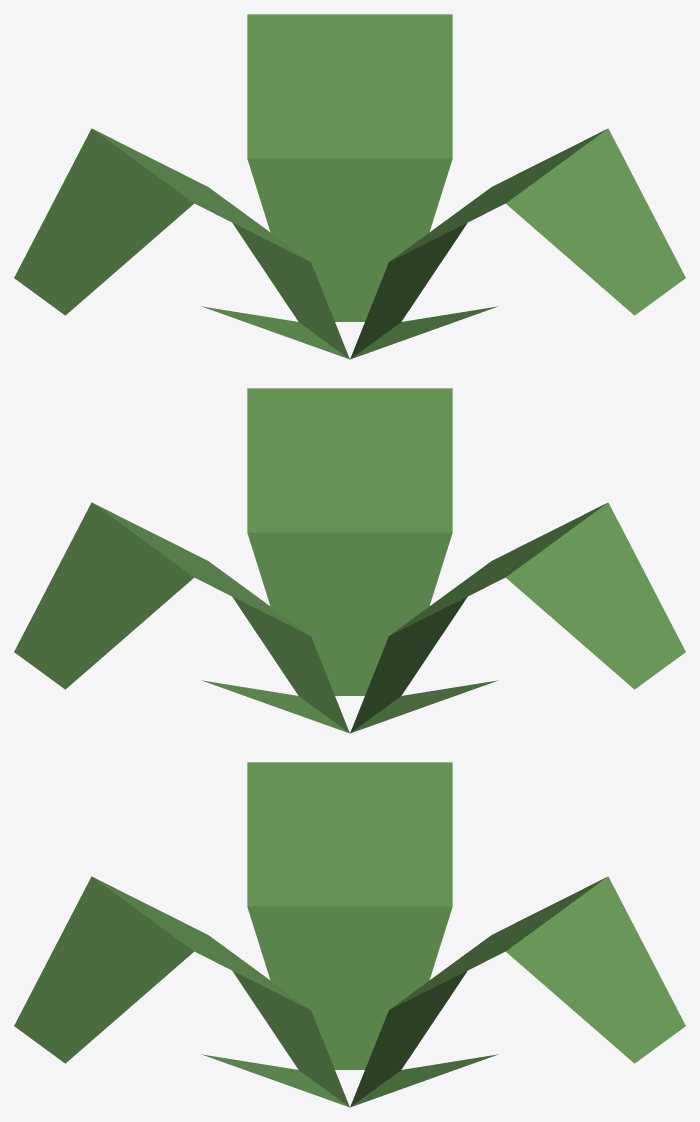
The model's file is nk_bush_tri.glb.
3 renders of one model, top to bottom at view 1: azimuth 30°, elevation 25°; view 2: azimuth 150°, elevation 25°; view 3: azimuth 270°, elevation 25°, orthographic.
Parts seen in each view (by area): view 1: plant_bushLargeTriangle; view 2: plant_bushLargeTriangle; view 3: plant_bushLargeTriangle.
Part boxes in pixels (x1,y1,x2,y2): plant_bushLargeTriangle: (14, 14, 685, 359); plant_bushLargeTriangle: (14, 388, 685, 733); plant_bushLargeTriangle: (14, 762, 685, 1107).
Size of the model in its own units: 2 by 0.8307 by 2.31.
